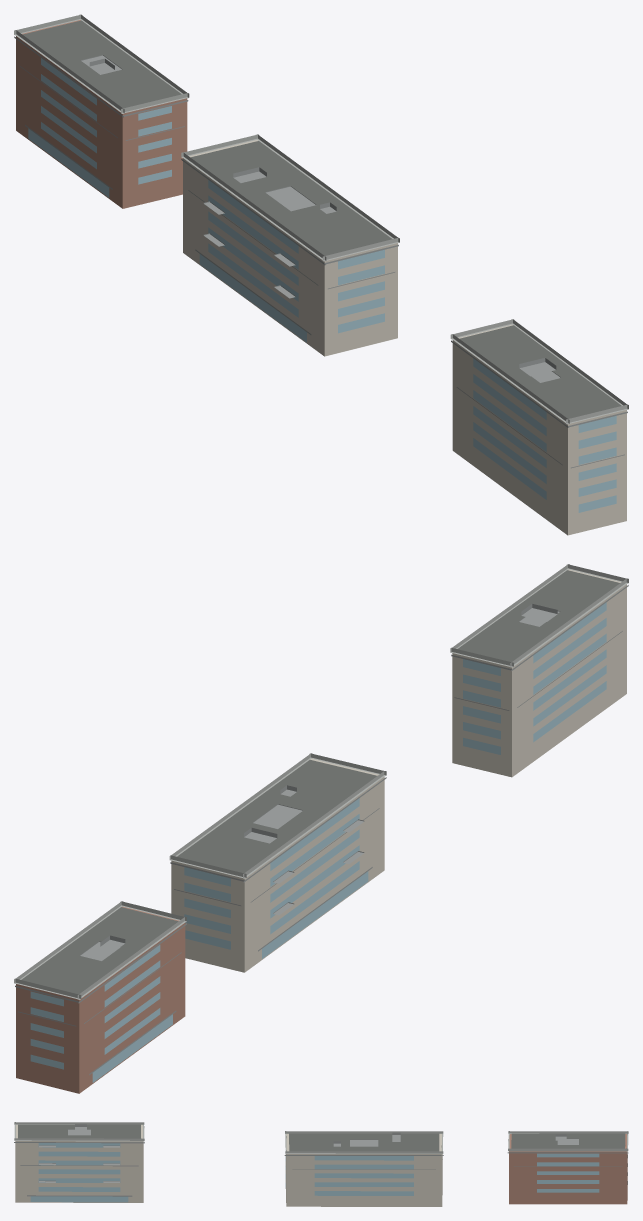
File: tile-m004-m003.glb
The picture shows the model from 3 angles, top to bottom: view 1: azimuth 30°, elevation 25°; view 2: azimuth 150°, elevation 25°; view 3: azimuth 270°, elevation 25°; orthographic projection. The views are drawn at different scales.
Visible parts, largest first — view 1: building-0001-mesh-0, building-0005-mesh-7, building-0010-mesh-14, building-0005-mesh-11, building-0005-mesh-8, building-0001-mesh-1, building-0010-mesh-17, building-0001-mesh-4, building-0010-mesh-15, building-0005-mesh-12, building-0001-mesh-5, building-0010-mesh-18 (+3 smaller); view 2: building-0001-mesh-0, building-0005-mesh-7, building-0010-mesh-14, building-0005-mesh-11, building-0005-mesh-8, building-0001-mesh-1, building-0001-mesh-4, building-0010-mesh-17, building-0010-mesh-15, building-0005-mesh-12, building-0001-mesh-5, building-0010-mesh-18 (+3 smaller); view 3: building-0005-mesh-7, building-0010-mesh-14, building-0001-mesh-0, building-0001-mesh-1, building-0005-mesh-8, building-0005-mesh-11, building-0010-mesh-17, building-0001-mesh-4, building-0010-mesh-15, building-0005-mesh-12, building-0001-mesh-5, building-0010-mesh-18 (+7 smaller).
Part boxes in pixels (x1,y1,x2,y2): building-0001-mesh-0: (452, 324, 626, 535); building-0005-mesh-7: (183, 140, 397, 356); building-0010-mesh-14: (16, 20, 187, 208); building-0005-mesh-11: (190, 141, 392, 255); building-0005-mesh-8: (199, 180, 384, 342); building-0001-mesh-1: (473, 358, 616, 512); building-0010-mesh-17: (22, 20, 181, 108); building-0001-mesh-4: (459, 325, 621, 418); building-0010-mesh-15: (28, 58, 171, 197); building-0005-mesh-12: (181, 134, 399, 261); building-0001-mesh-5: (450, 319, 628, 424); building-0010-mesh-18: (14, 14, 189, 113); building-0001-mesh-0: (452, 569, 626, 777); building-0005-mesh-7: (171, 759, 384, 972); building-0010-mesh-14: (16, 906, 185, 1093); building-0005-mesh-11: (177, 760, 377, 873); building-0005-mesh-8: (184, 798, 368, 958); building-0001-mesh-1: (463, 602, 606, 754); building-0001-mesh-4: (457, 570, 619, 661); building-0010-mesh-17: (21, 907, 178, 994); building-0010-mesh-15: (30, 945, 172, 1082); building-0005-mesh-12: (169, 753, 386, 878); building-0001-mesh-5: (450, 564, 628, 667); building-0010-mesh-18: (14, 901, 186, 999); building-0005-mesh-7: (285, 1134, 442, 1206); building-0010-mesh-14: (509, 1134, 627, 1204); building-0001-mesh-0: (15, 1125, 143, 1202); building-0001-mesh-1: (30, 1143, 128, 1202); building-0005-mesh-8: (285, 1156, 413, 1195); building-0005-mesh-11: (289, 1133, 439, 1151); building-0010-mesh-17: (511, 1133, 625, 1148); building-0001-mesh-4: (18, 1124, 140, 1138); building-0010-mesh-15: (537, 1153, 627, 1192); building-0005-mesh-12: (285, 1131, 443, 1154); building-0001-mesh-5: (14, 1122, 144, 1141); building-0010-mesh-18: (508, 1131, 628, 1151).
Bounding box in the file's own units: 18.18 × 25.2 × 211.
